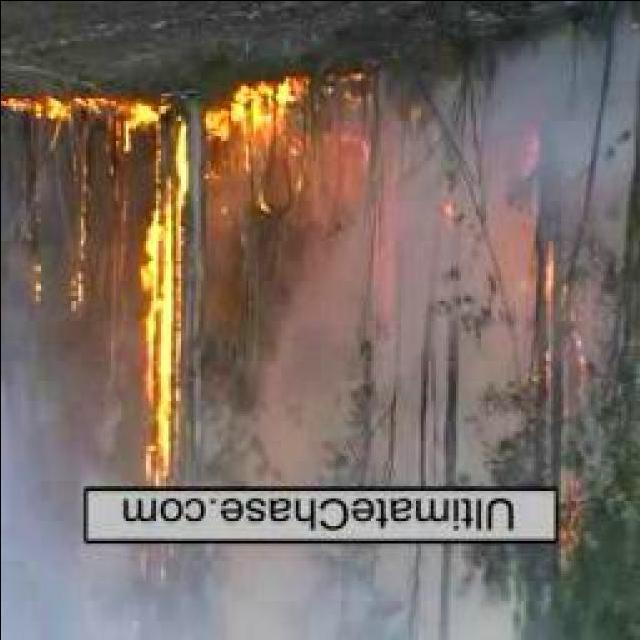Fire: (118, 102, 176, 506), (208, 70, 318, 196), (504, 197, 558, 317), (0, 94, 99, 120), (547, 479, 578, 562)
